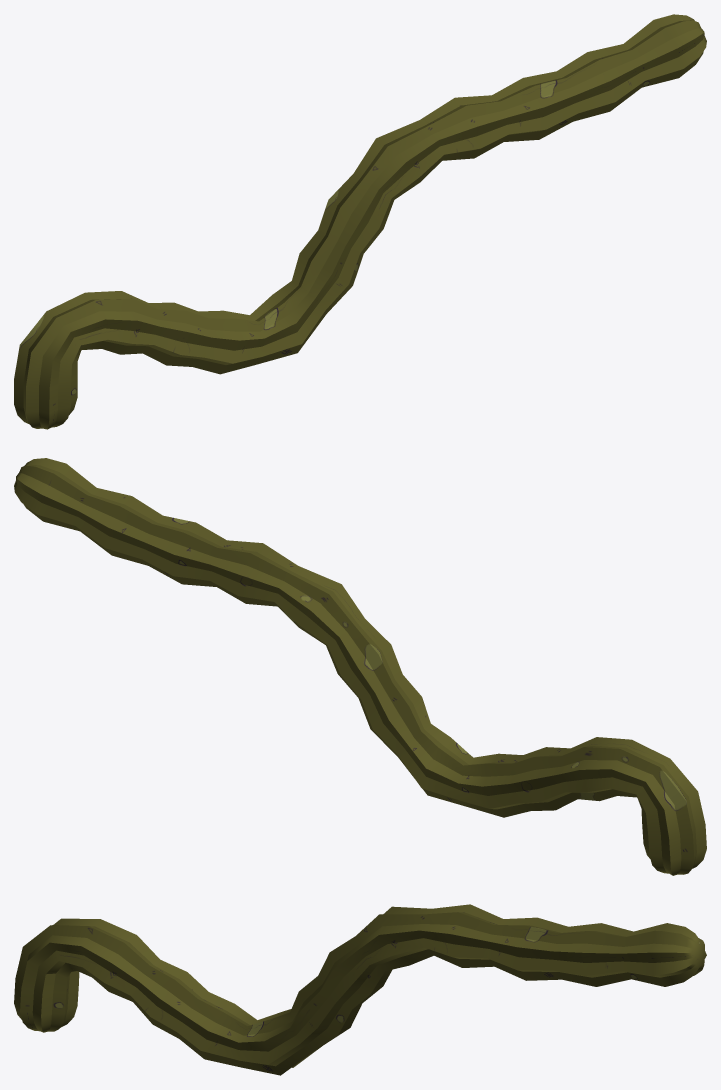
File: BigCactus_1.fbx
3 views of the same model, one above another, from view 1: azimuth 30°, elevation 25°; view 2: azimuth 150°, elevation 25°; view 3: azimuth 330°, elevation 25° (orthographic).
Parts seen in each view (by area): view 1: Cactus; view 2: Cactus; view 3: Cactus.
Boxes of the visible parts, box(x1,y1,x2,y2) form: Cactus: box(14, 14, 706, 429); Cactus: box(14, 458, 706, 875); Cactus: box(14, 904, 706, 1075).
Bounding box in the file's own units: 2747 × 230 × 975.
